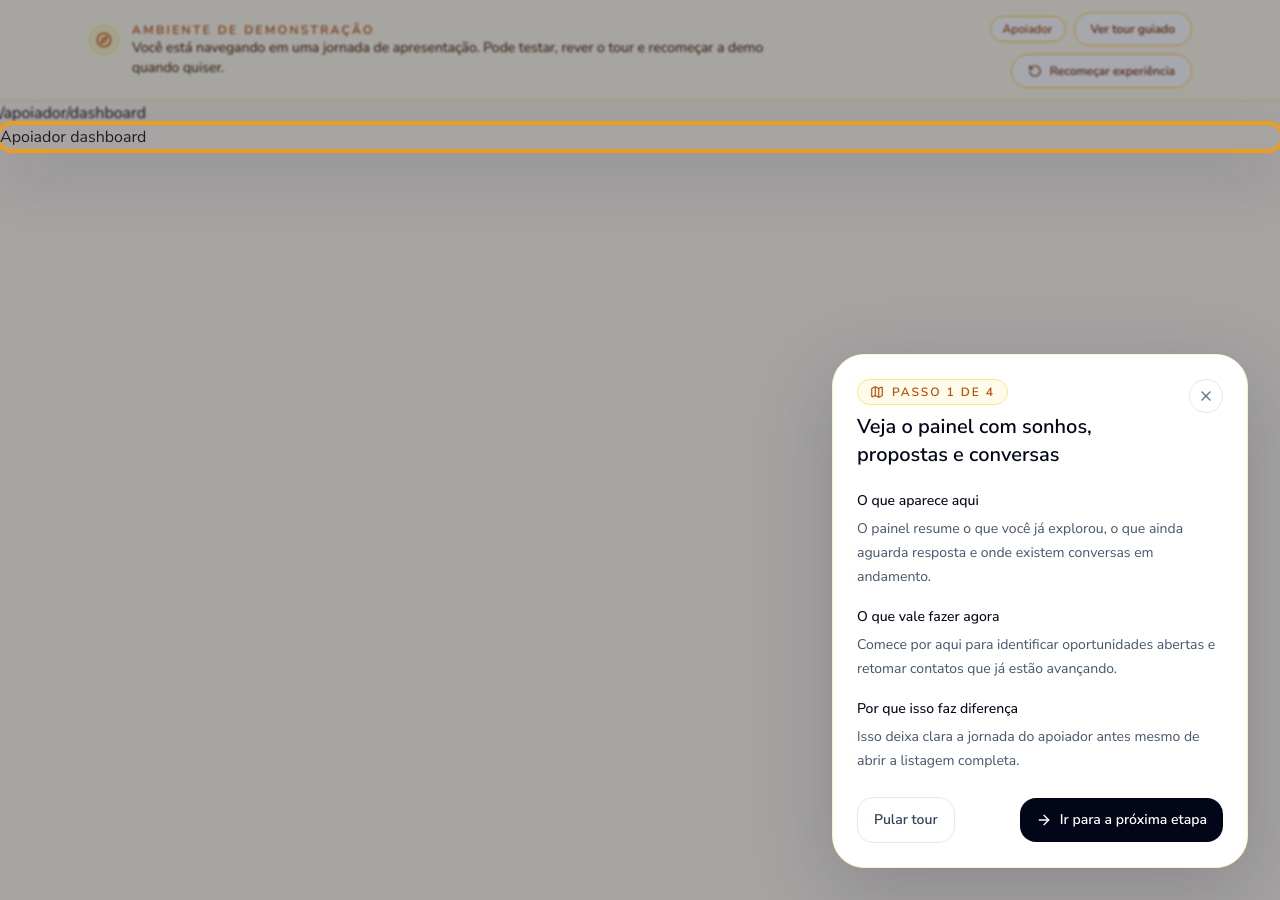
Test: SandboxTourProvider › opens the queued supporter tour and advances through the configured steps
Expected: the dialog named "tour guiado do apoiador" is shown, [832,354,1248,868]
Expected: the text "Passo 1 de 4" is shown, [857,379,1008,405]
Click the button "Ir para a próxima etapa" at (1121, 820), box [1020,798,1223,842]
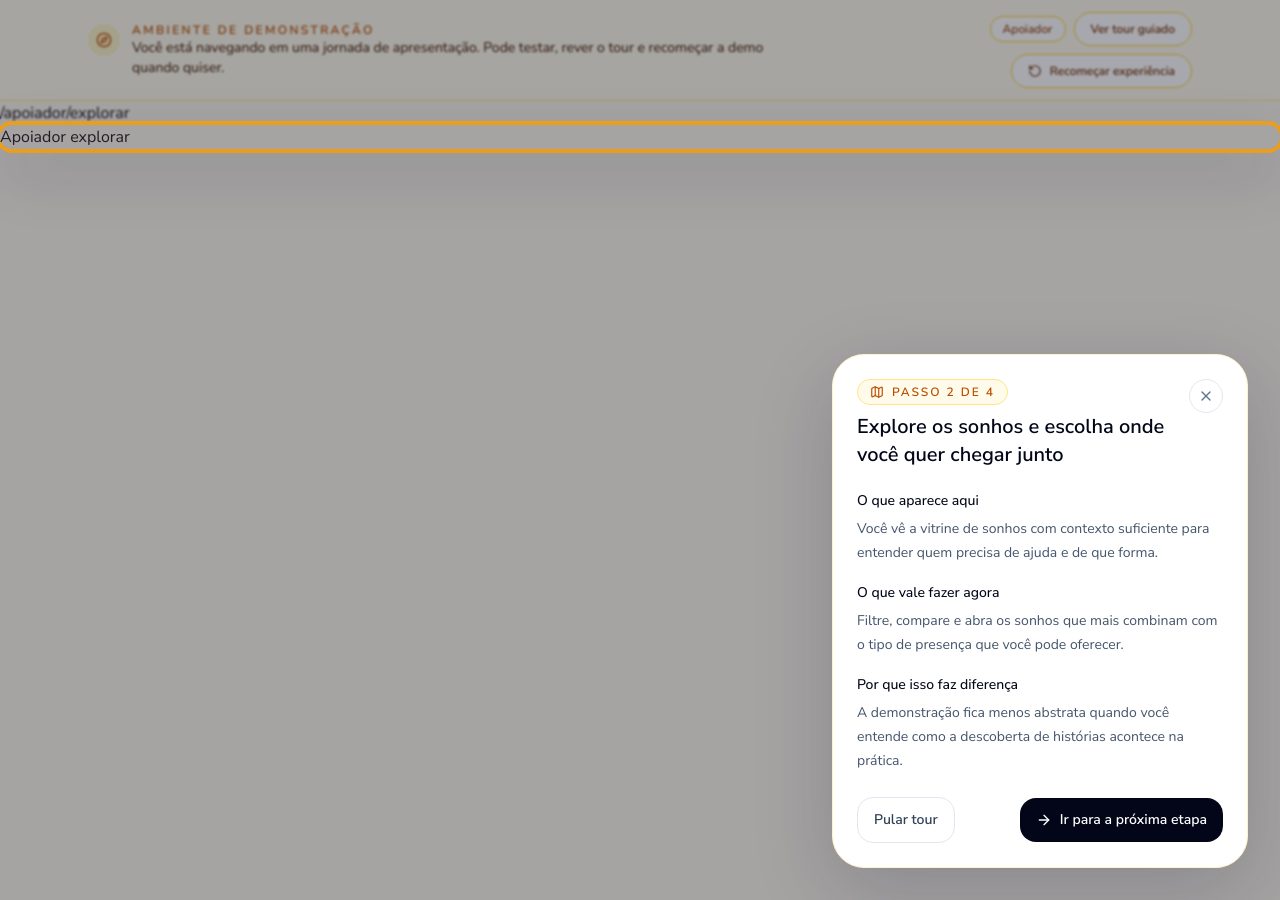
Result: the heading "Explore os sonhos e escolha onde você quer chegar junto" is shown at [857,413,1173,469]
Result: the text with test id "current-path" reads "/apoiador/explorar" at [0,102,129,124]
Click the button "Ir para a próxima etapa" at (1121, 820), box [1020,798,1223,842]
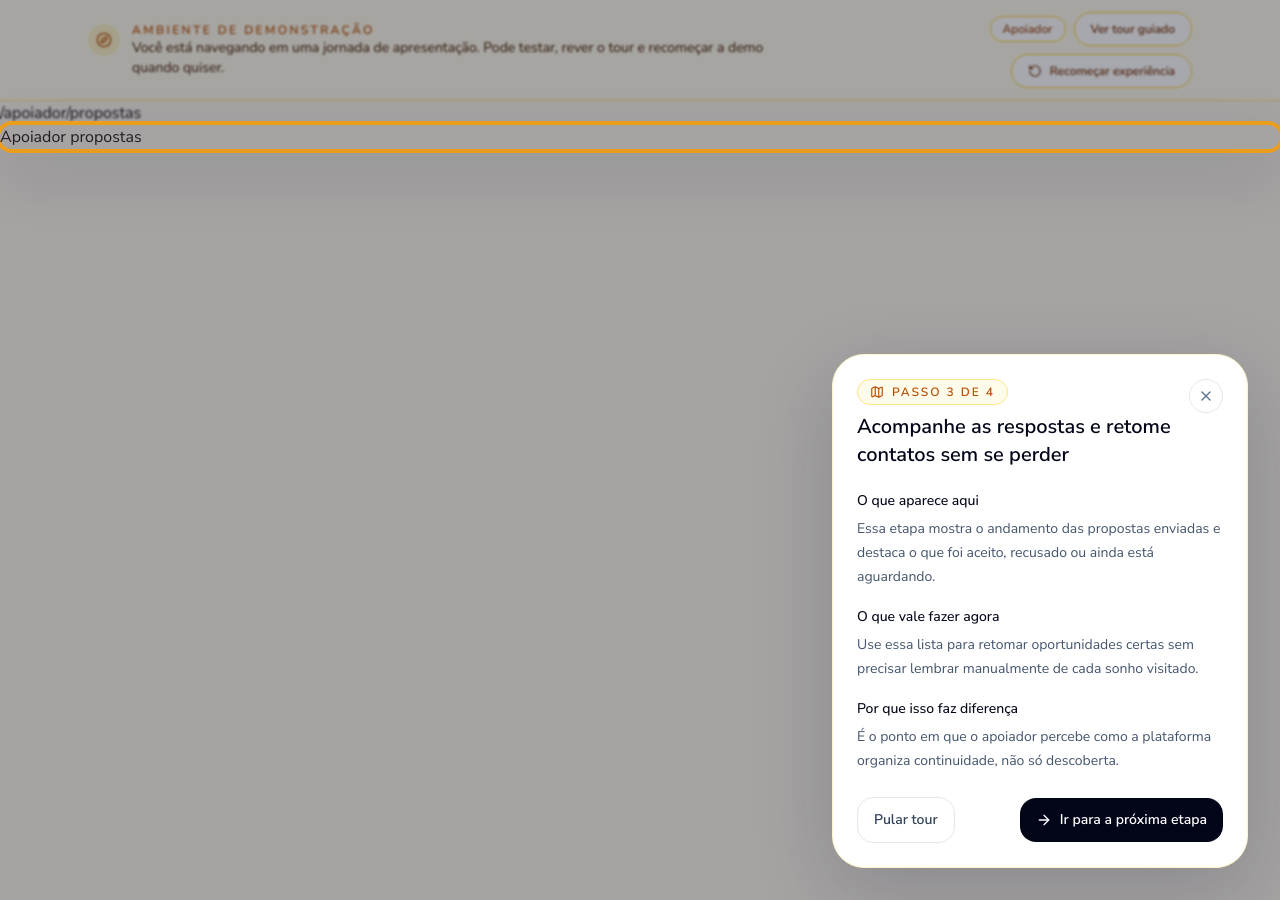
Result: the heading "Acompanhe as respostas e retome contatos sem se perder" is shown at [857,413,1173,469]
Result: the text with test id "current-path" reads "/apoiador/propostas" at [0,102,141,124]
Click the button "Ir para a próxima etapa" at (1121, 820), box [1020,798,1223,842]
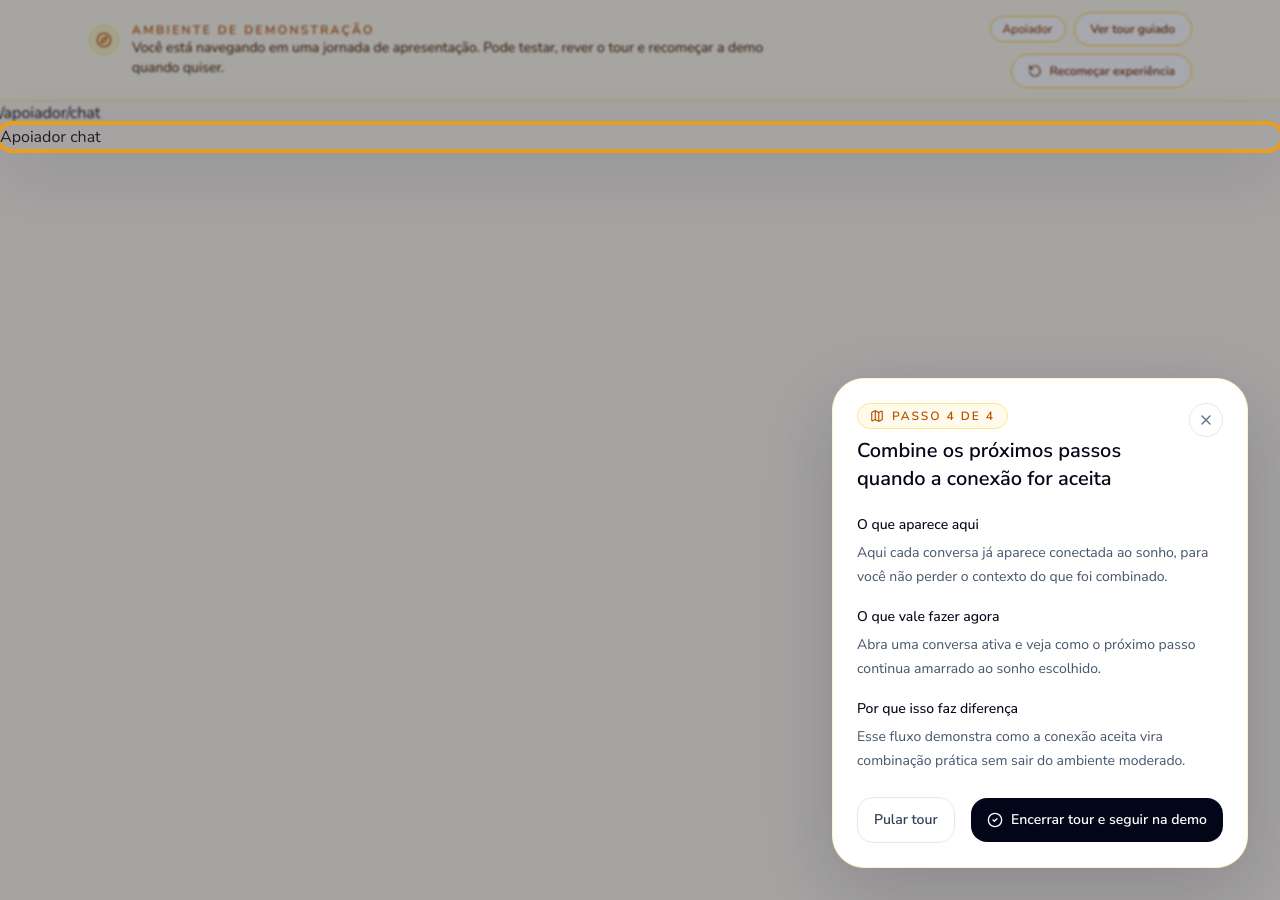
Result: the heading "Combine os próximos passos quando a conexão for aceita" is shown at [857,437,1121,492]
Result: the text with test id "current-path" reads "/apoiador/chat" at [0,102,100,124]
